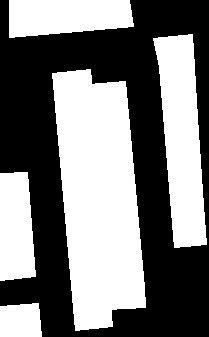parkingspot: (52, 69, 112, 330), (88, 81, 145, 309), (153, 34, 206, 247), (9, 0, 133, 37), (0, 172, 35, 280), (0, 303, 41, 337)
